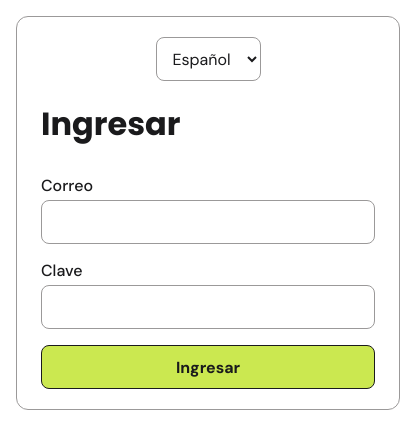
Scenario: selector_sin_sesion_no_guarda
Select "English" in the dropdown named "Idioma" at (208, 59), box left=156, top=37, right=260, bottom=81
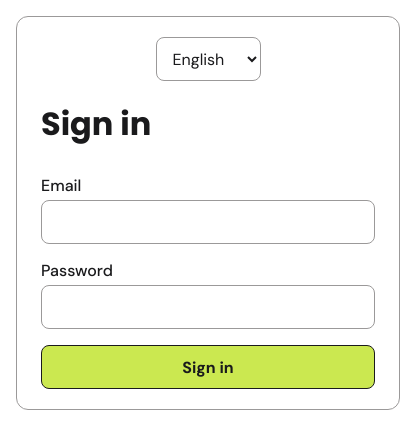
expect the button "Sign in" is shown: met, box left=41, top=345, right=375, bottom=389
